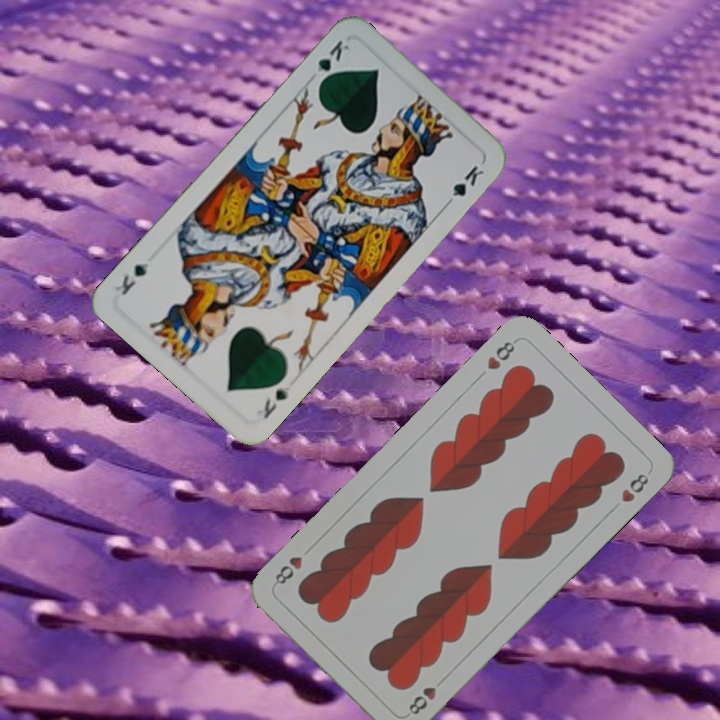GK: (252, 376, 297, 422), (313, 36, 352, 89)
H8: (483, 335, 520, 373), (404, 683, 439, 719)
